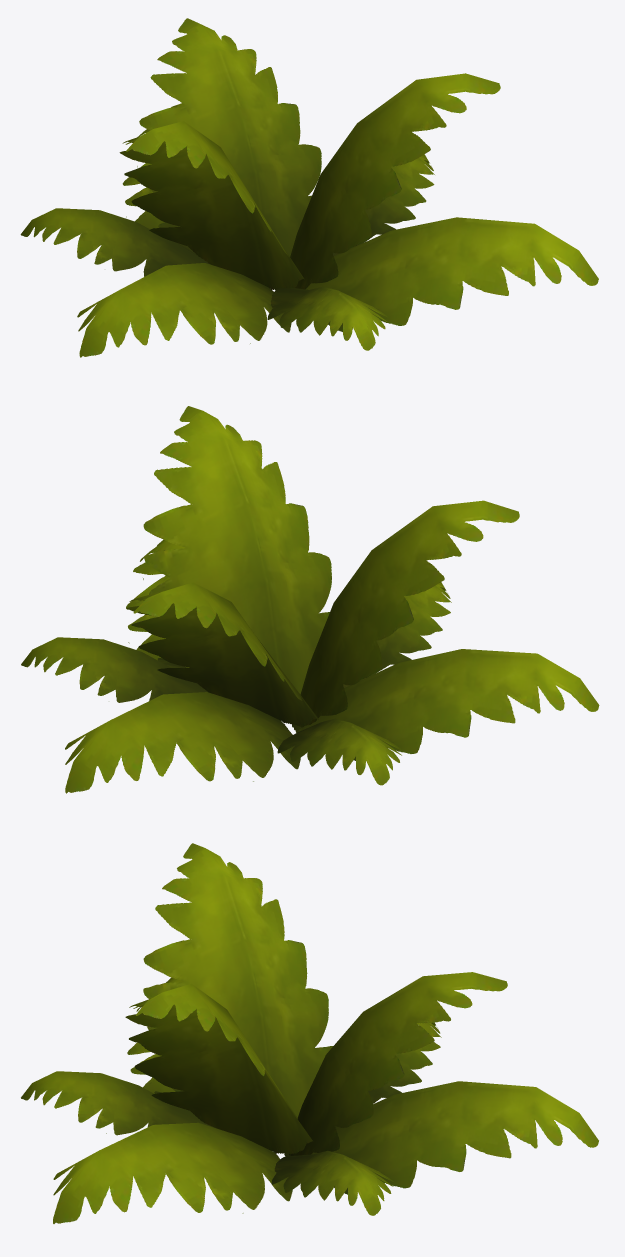
File: Fern_2.glb
3 views of the same model, one above another, from view 1: azimuth 30°, elevation 25°; view 2: azimuth 150°, elevation 25°; view 3: azimuth 270°, elevation 25° (orthographic). The views are drawn at different scales.
Parts seen in each view (by area): view 1: Fern_2; view 2: Fern_2; view 3: Fern_2.
Part boxes in pixels (bbox=[...]): Fern_2: bbox=[20, 18, 598, 357]; Fern_2: bbox=[21, 406, 599, 793]; Fern_2: bbox=[21, 843, 598, 1223].
Size of the model in its own units: 1.68 by 0.7787 by 1.79.
Materials: 1 (1 with a texture image).
